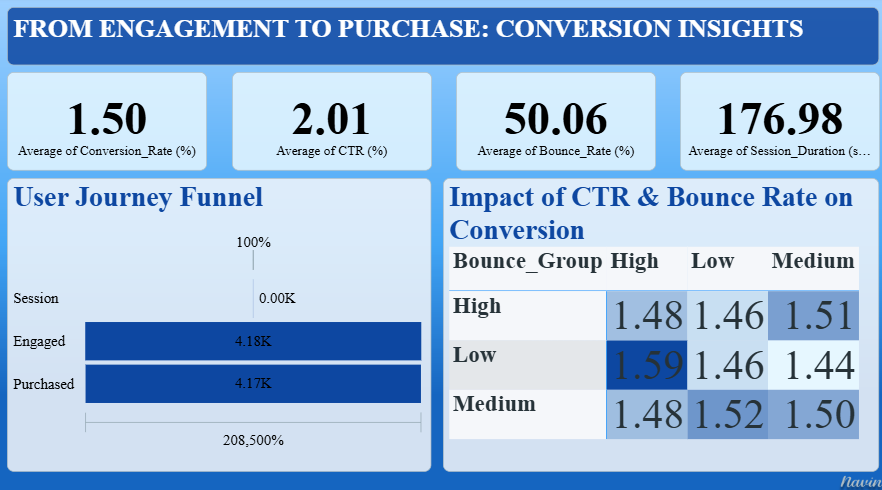

The page's visual inventory and layout, read from the dashboard file:
{"tool":"powerbi","page":{"name":"Page 1","canvas":[1280,720],"ordinal":0},"visuals":[{"type":"textbox","box":[10.2,14.6,1255.6,83.4],"z":0},{"type":"card","fields":{"Values":["Avg(synthetic_ecommerce_data.Conversion_Rate (%))"]},"box":[10.2,122,287.8,142.2],"z":1000},{"type":"card","fields":{"Values":["Avg(synthetic_ecommerce_data.CTR (%))"]},"box":[333.6,122,287.8,142.2],"z":2000},{"type":"card","fields":{"Values":["Avg(synthetic_ecommerce_data.Bounce_Rate (%))"]},"box":[657,122,287.8,142.2],"z":3000},{"type":"card","fields":{"Values":["Avg(synthetic_ecommerce_data.Session_Duration (seconds))"]},"box":[978.7,122,287.8,142.2],"z":4000},{"type":"funnel","title":"User Journey Funnel","fields":{"Y":["CountNonNull(synthetic_ecommerce_data.Session_ID)"],"Category":["synthetic_ecommerce_data.Stage"]},"box":[10.2,283.4,611.2,409.7],"z":5000},{"type":"pivotTable","title":"Impact of CTR & Bounce Rate on Conversion","fields":{"Rows":["synthetic_ecommerce_data.Bounce_Group"],"Columns":["synthetic_ecommerce_data.CTR_Group"],"Values":["Avg(synthetic_ecommerce_data.Conversion_Rate (%))"]},"box":[638.4,283.4,628.1,409.7],"z":5001}]}

Visuals, with their boxes in screenshot pixels (x1, y1, x2, y2), scaled from the page's 1280x720 canvas onto the 882x490 screenshot:
textbox: crop(7, 10, 872, 67)
card - Avg(synthetic_ecommerce_data.Conversion_Rate (%)): crop(7, 83, 205, 180)
card - Avg(synthetic_ecommerce_data.CTR (%)): crop(230, 83, 428, 180)
card - Avg(synthetic_ecommerce_data.Bounce_Rate (%)): crop(453, 83, 651, 180)
card - Avg(synthetic_ecommerce_data.Session_Duration (seconds)): crop(674, 83, 873, 180)
"User Journey Funnel" funnel: crop(7, 193, 428, 472)
"Impact of CTR & Bounce Rate on Conversion" pivotTable: crop(440, 193, 873, 472)
